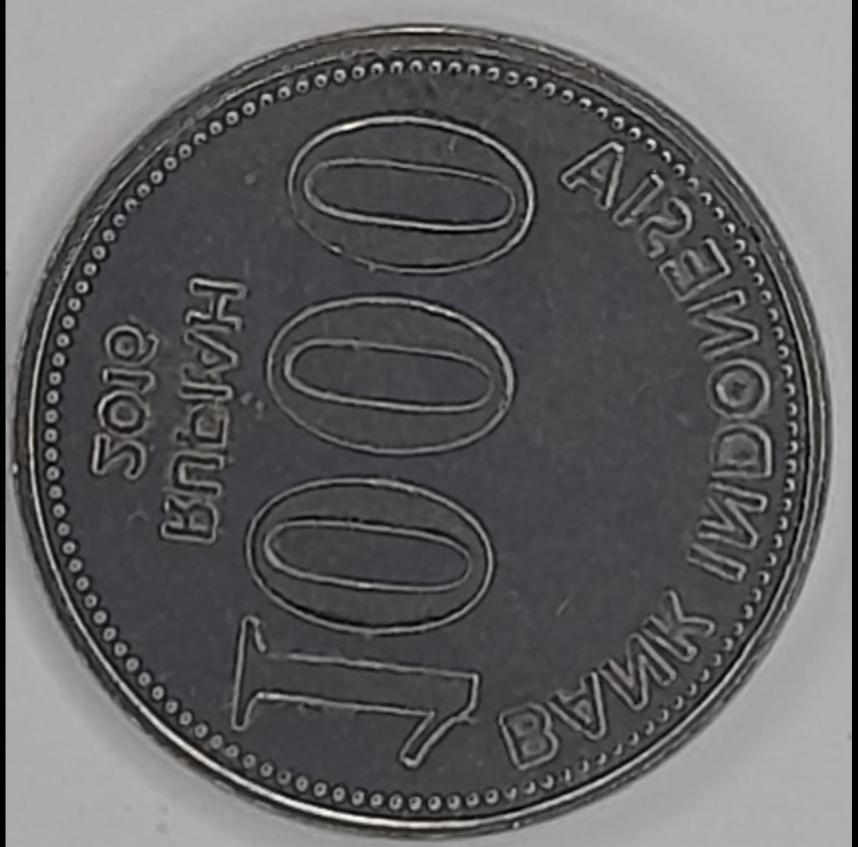coin_1000_e2016: (15, 17, 847, 847)
